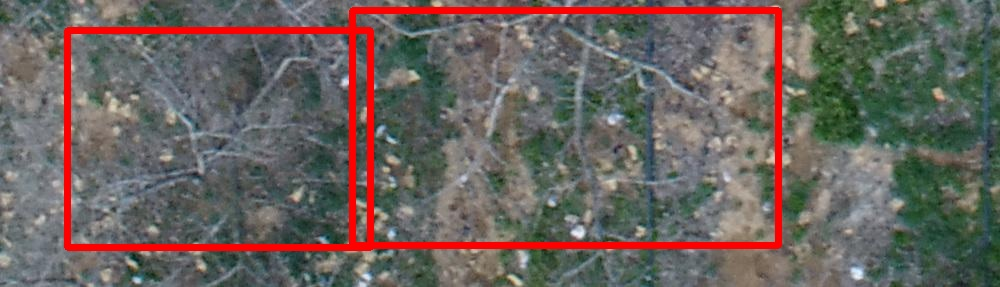apple: (352, 10, 778, 245), (67, 30, 370, 247)
